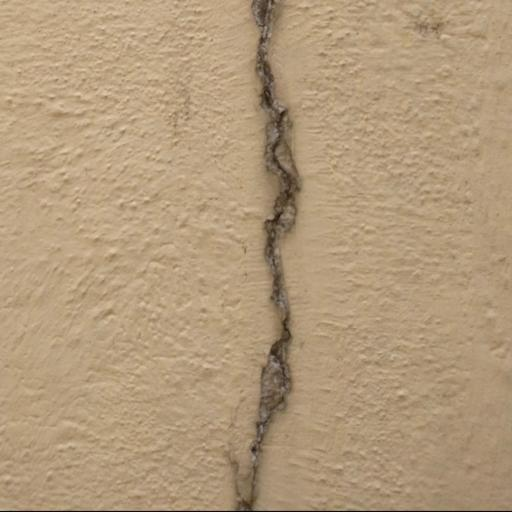minor_crack: (221, 0, 332, 512)
